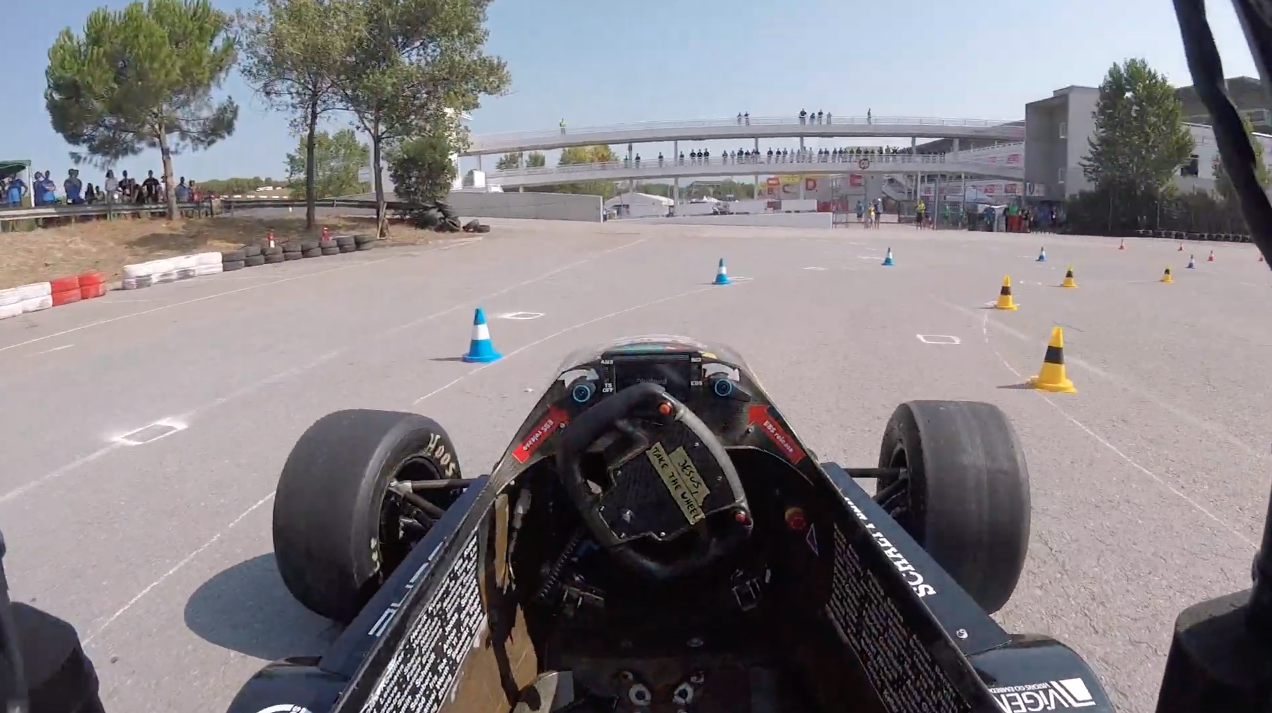lcone: (457, 302, 503, 369), (711, 255, 736, 287), (881, 246, 898, 268)
rcone: (1023, 325, 1083, 396), (988, 275, 1021, 313), (1059, 263, 1082, 290)
